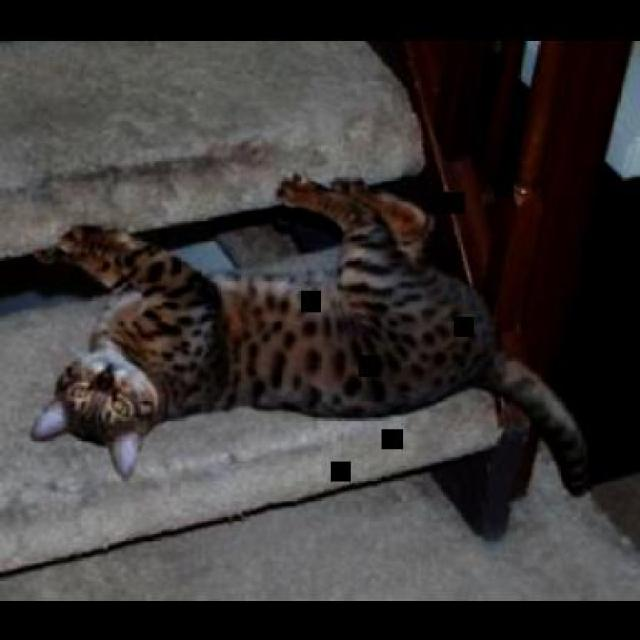unauthorized: (28, 171, 590, 497)
